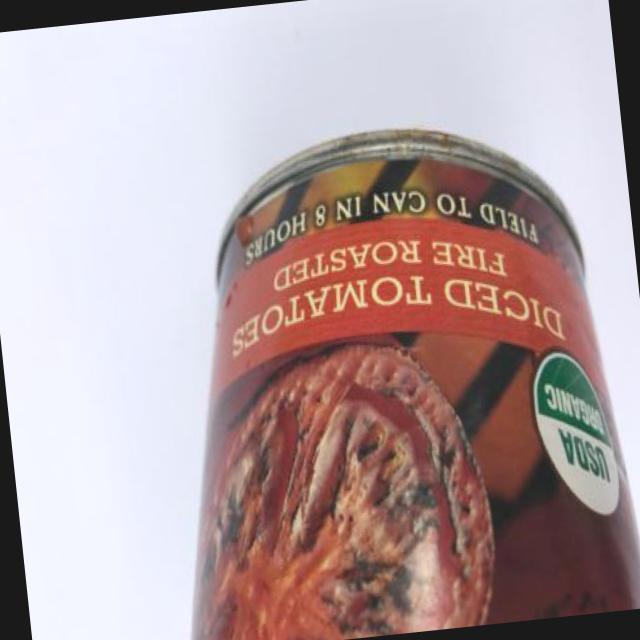kim_loai: (194, 129, 640, 640)
